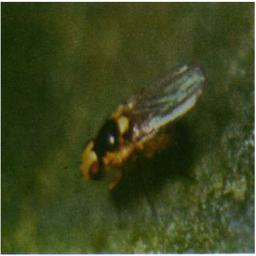liriomyza: (78, 61, 207, 192)
